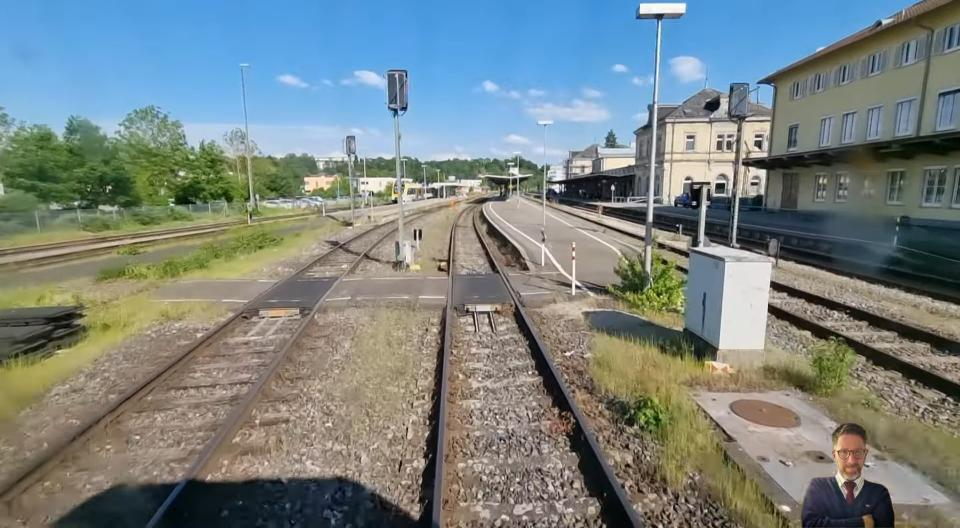Plant: (587, 332, 788, 528), (806, 339, 856, 396), (500, 526, 527, 528)
